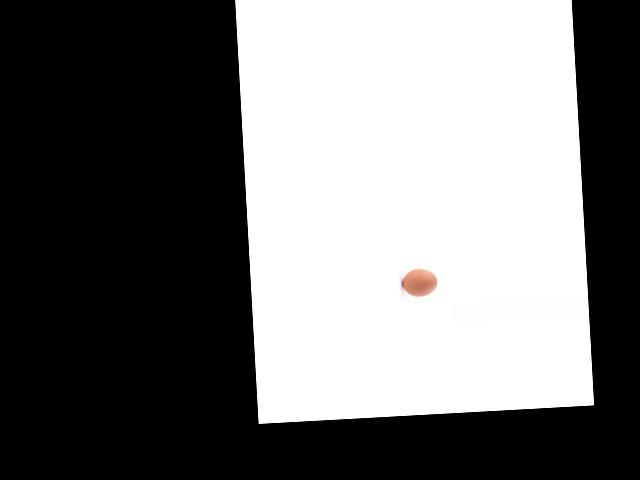egg: (402, 268, 438, 298)
